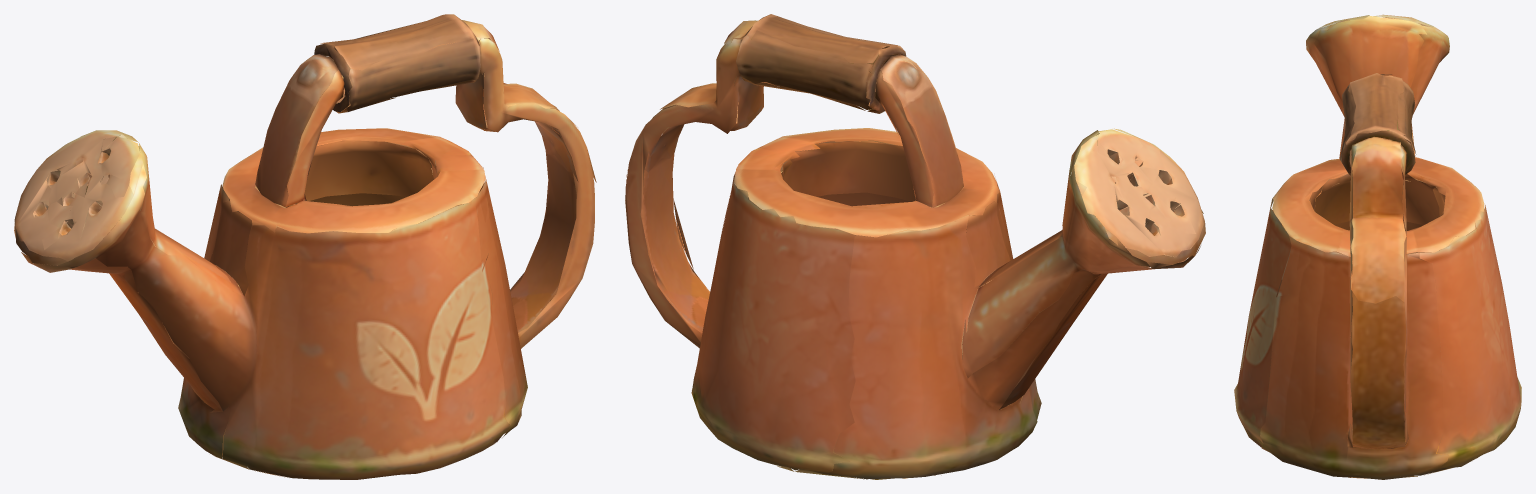
Rendered from A1-watering_can-runtime.glb.
The picture shows the model from 3 angles, left to right: view 1: azimuth 30°, elevation 25°; view 2: azimuth 150°, elevation 25°; view 3: azimuth 270°, elevation 25°; orthographic projection. The views are drawn at different scales.
Parts seen in each view (by area): view 1: geometry_0; view 2: geometry_0; view 3: geometry_0.
Part boxes in pixels (<box>): geometry_0: <box>14,14,596,479</box>; geometry_0: <box>625,14,1205,479</box>; geometry_0: <box>1234,14,1521,479</box>.
Size of the model in its own units: 0.2804 by 0.18 by 0.1404.
Materials: 1 (1 with a texture image).
